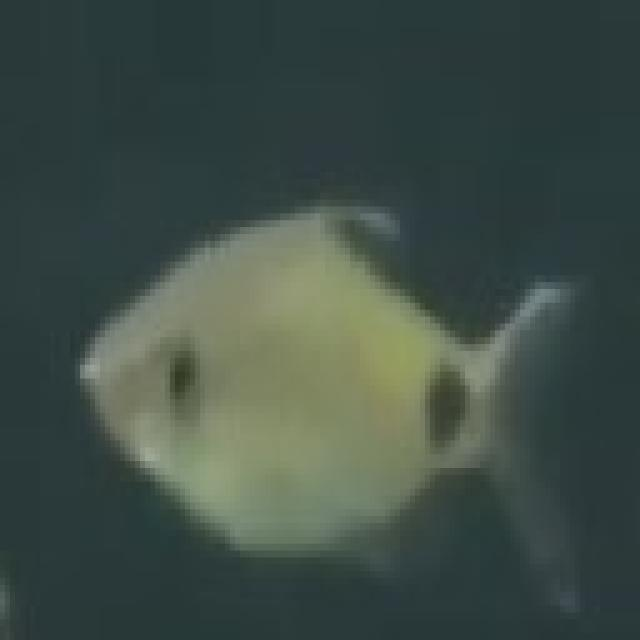Black-Spotted-Barb: (47, 155, 640, 586)
